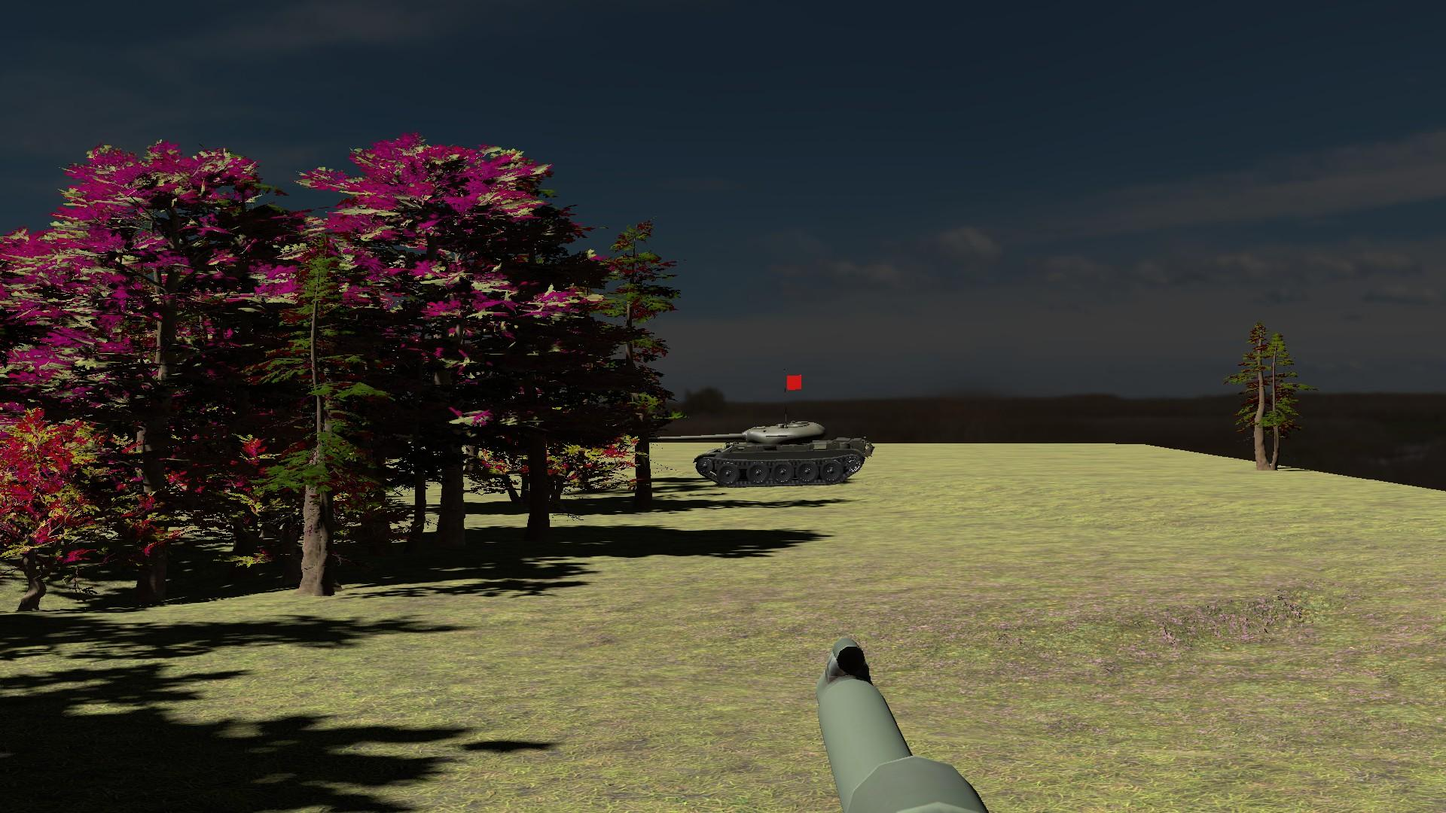Tank: (645, 412, 879, 493)
